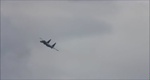maybay_muctieu: (37, 35, 59, 53)
